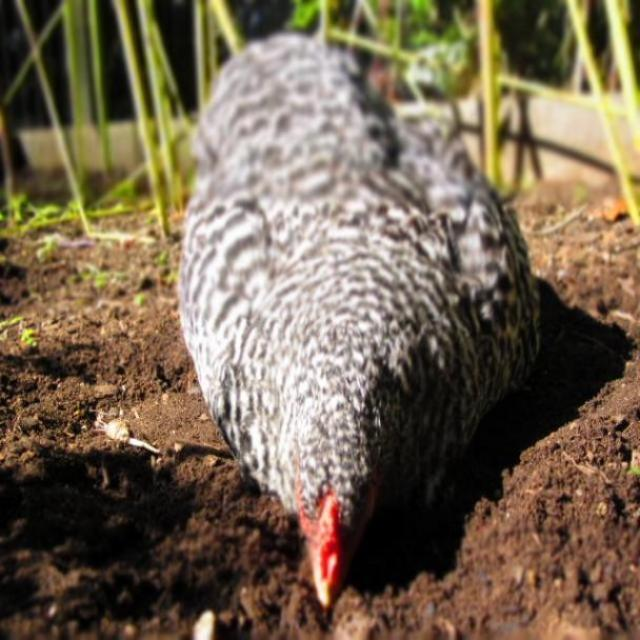Chicken: (182, 33, 541, 609)
